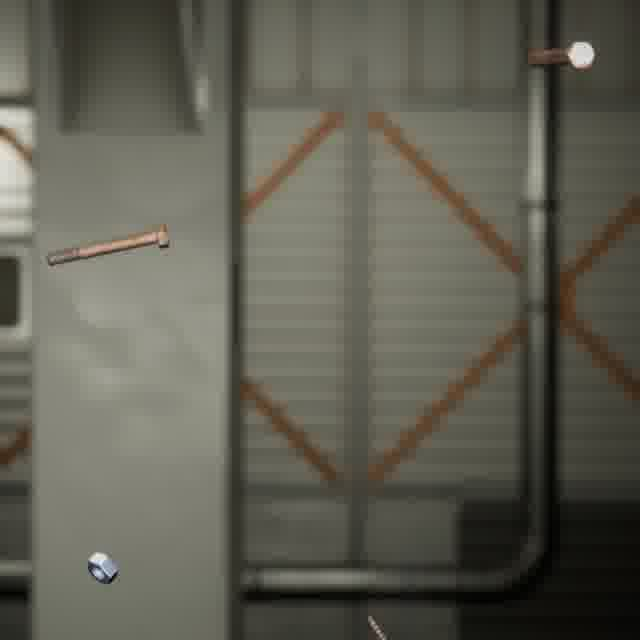bolt: (42, 217, 173, 270), (523, 37, 599, 73), (362, 610, 392, 640)
nut: (82, 547, 122, 589)
